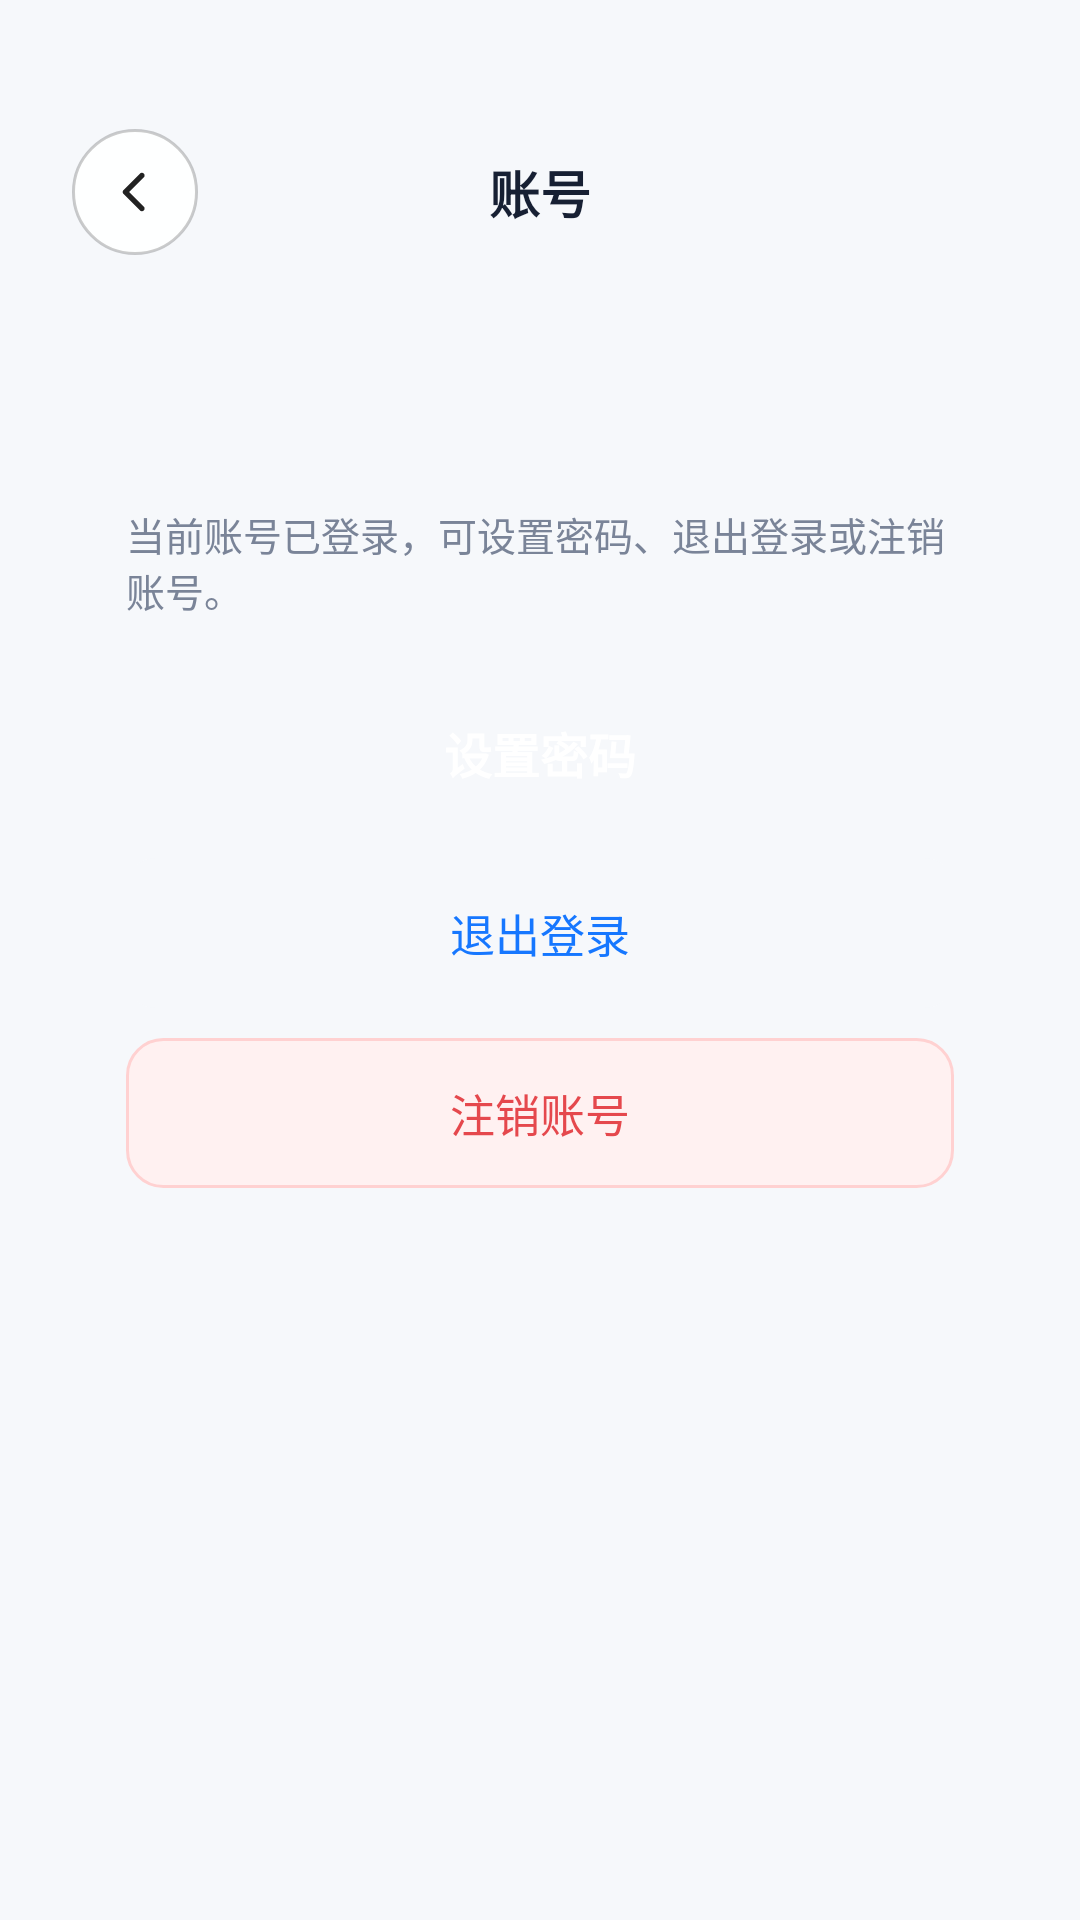

Point at icon controls on the screen. Image size 1080w x 1920h, points as point (x, y).
back chevron: point (135, 192)
